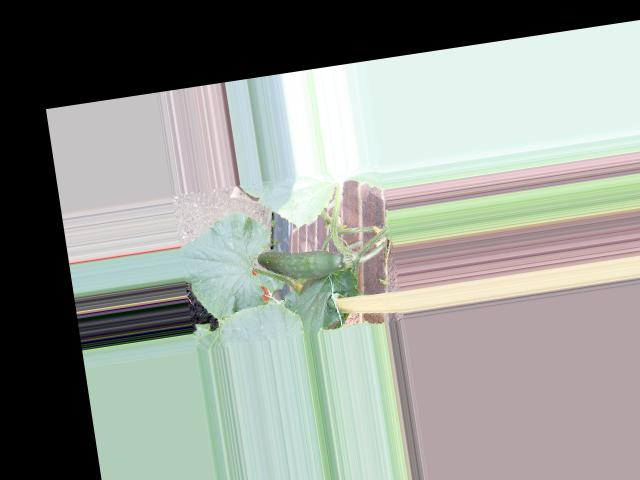cucumber: (256, 239, 346, 285)
